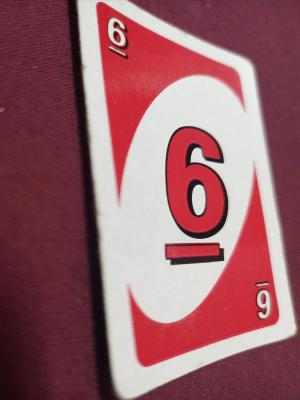num_6: (96, 15, 145, 65), (248, 275, 280, 328)
